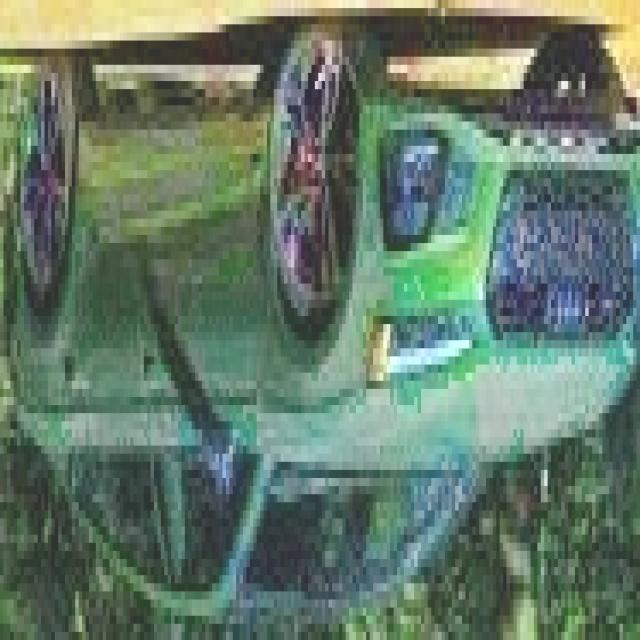green: (2, 0, 638, 624)
